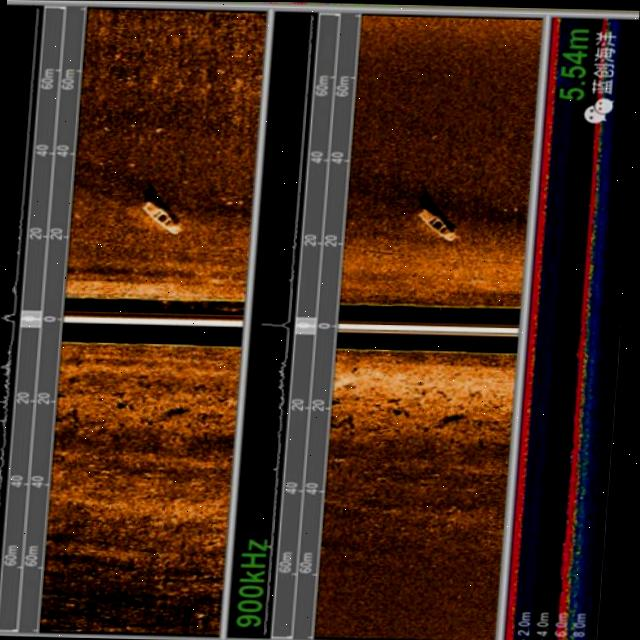shipwreck: (409, 203, 463, 247), (136, 196, 185, 240)
